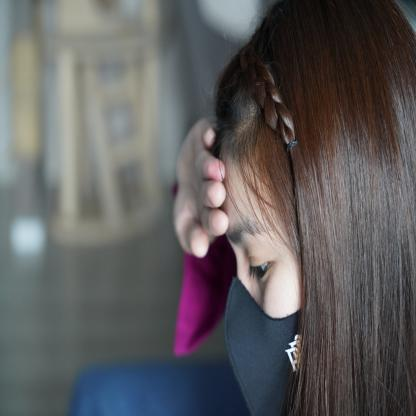Sick: (164, 110, 256, 263)
